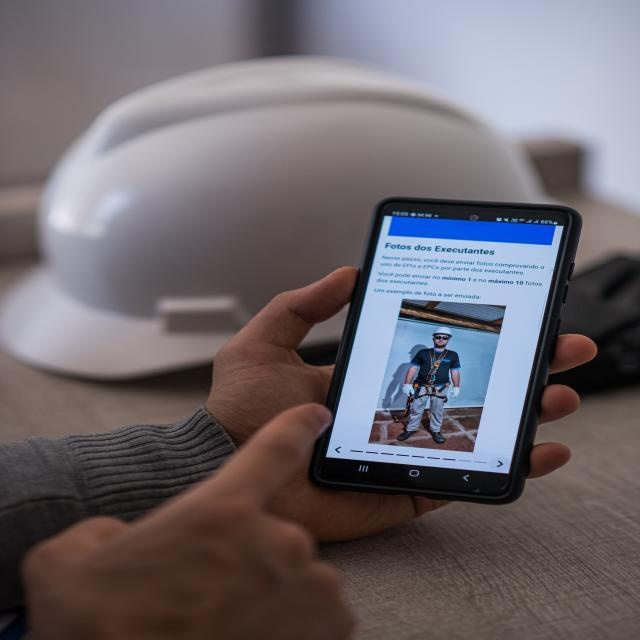Arnes_seguridad: (419, 345, 451, 401)
